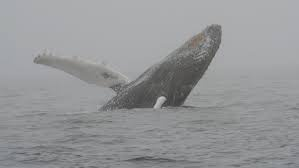humpback: (99, 26, 224, 111)
